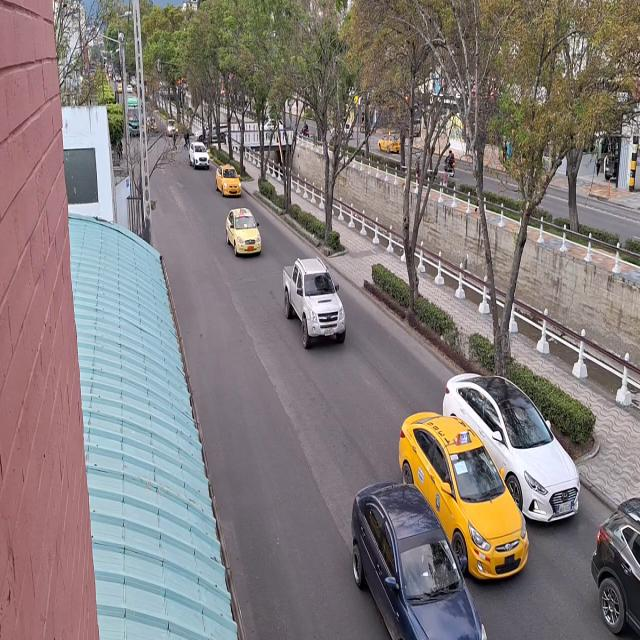CMT: (286, 258, 349, 347)
SED: (398, 417, 526, 582), (443, 370, 581, 522), (226, 209, 263, 258), (215, 163, 242, 198)
SUV: (188, 142, 208, 168)
